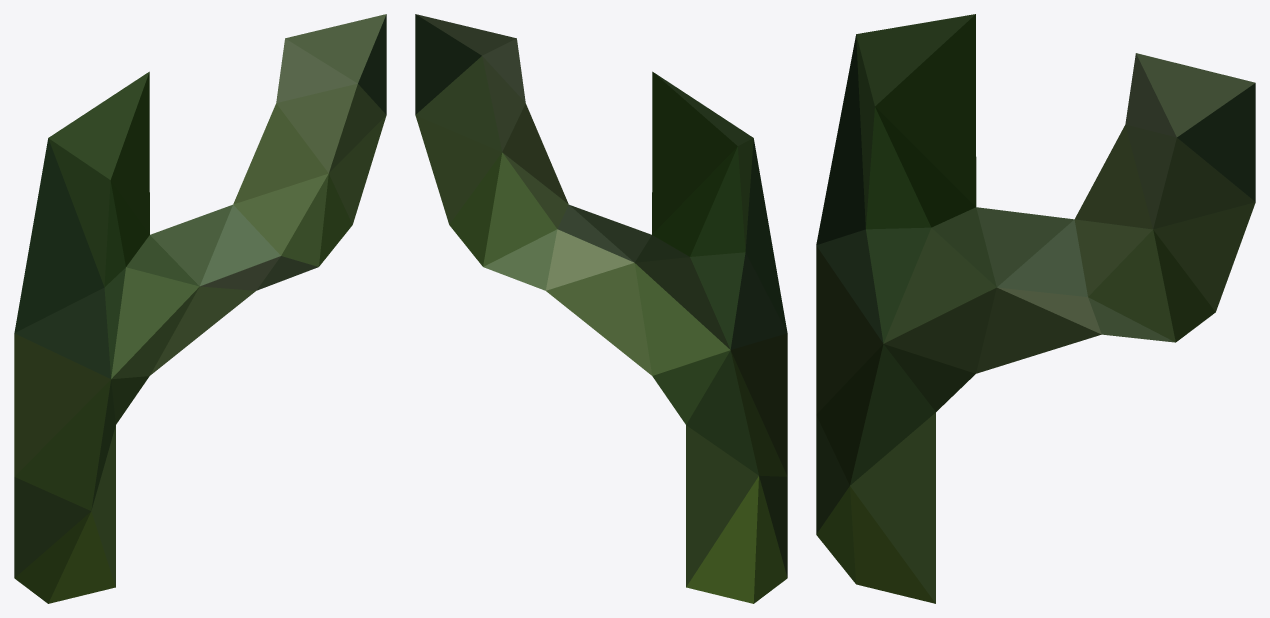
Rendered from Decal_Ivy-B.fbx.
3 renders of one model, left to right at view 1: azimuth 30°, elevation 25°; view 2: azimuth 150°, elevation 25°; view 3: azimuth 330°, elevation 25°, orthographic. The views are drawn at different scales.
Parts seen in each view (by area): view 1: Decal_Ivy-B; view 2: Decal_Ivy-B; view 3: Decal_Ivy-B.
Boxes of the visible parts, x1,y1,x2,y2 form: Decal_Ivy-B: (14,14,386,603); Decal_Ivy-B: (415,14,787,603); Decal_Ivy-B: (816,14,1255,603).
Bounding box in the file's own units: 229 × 299 × 25.82.
